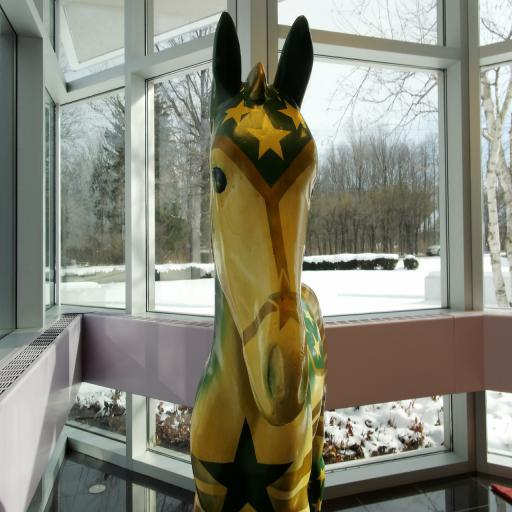Horse: (188, 10, 327, 512)
